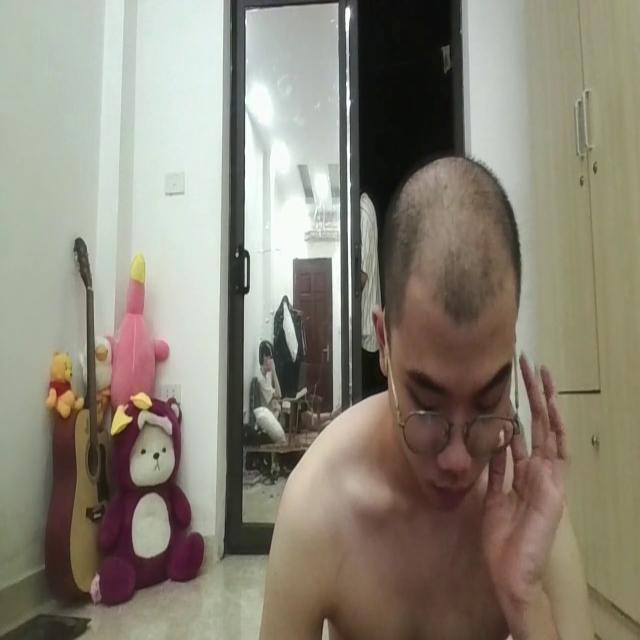extra_person: (356, 171, 385, 383), (258, 327, 298, 441)
student: (248, 169, 618, 640)
